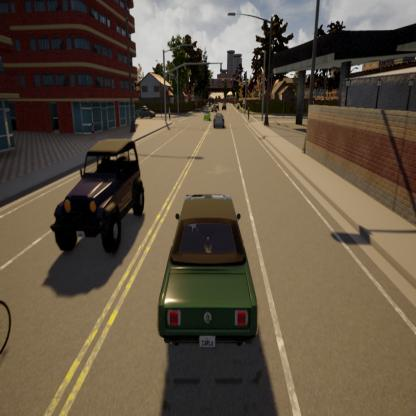Cars: (152, 185, 269, 360), (48, 128, 149, 270), (134, 100, 158, 120), (212, 109, 226, 130), (201, 111, 213, 122)
